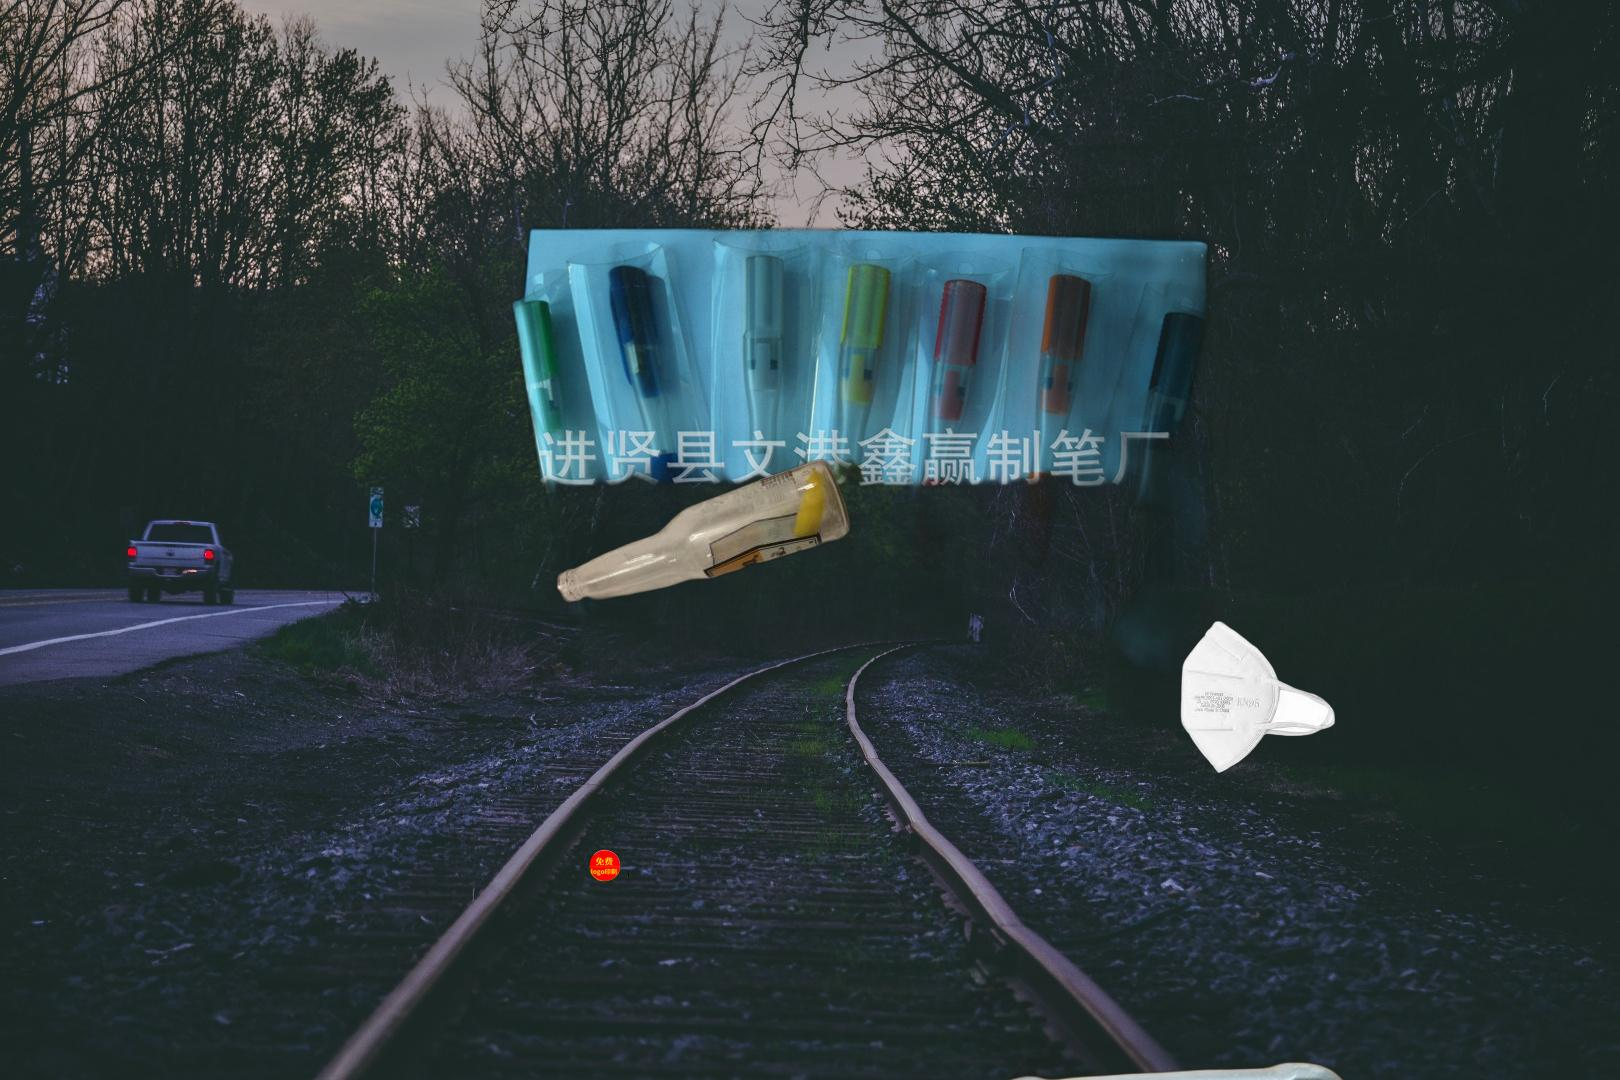battery: (745, 1059, 1363, 1080)
glass: (552, 456, 855, 605)
penholder: (507, 178, 1229, 823), (586, 735, 734, 883)
trash: (1178, 618, 1338, 776)
trashbox-cardboard: (591, 954, 1620, 1080)
